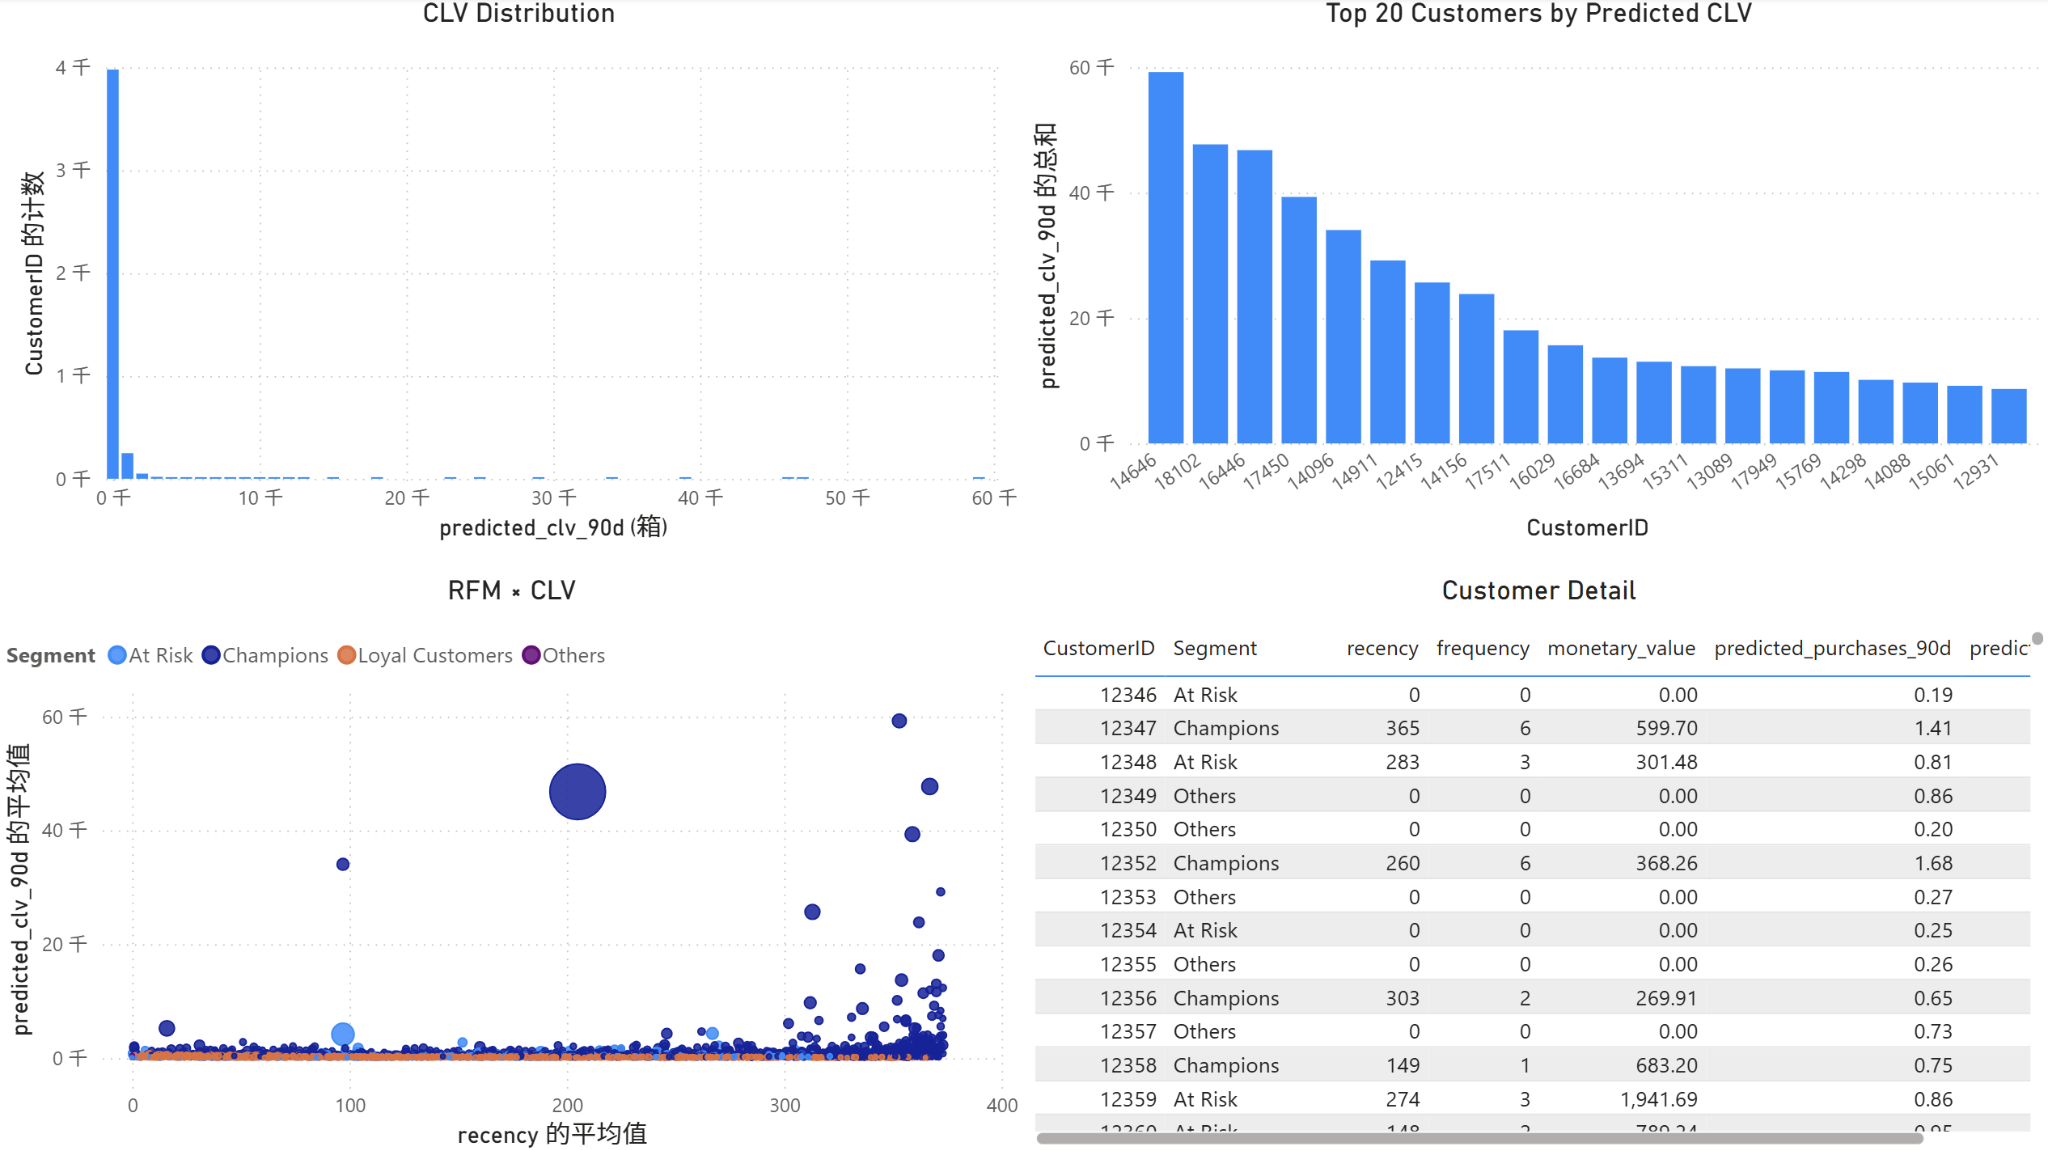

The dashboard page shown, as its layout file describes it:
{"tool":"powerbi","page":{"name":"CLV Analysis","canvas":[1280,720],"ordinal":1},"visuals":[{"type":"clusteredColumnChart","title":"CLV Distribution","fields":{"Y":["CountNonNull(customer_clv.CustomerID)"],"Category":["customer_clv.predicted_clv_90d (箱)"]},"box":[9.3,0,630.7,343.8],"z":0},{"type":"clusteredColumnChart","title":"Top 20 Customers by Predicted CLV","fields":{"Category":["customer_clv.CustomerID"],"Y":["Sum(customer_clv.predicted_clv_90d)"]},"box":[640,0,640,343.8],"z":1000},{"type":"scatterChart","title":"RFM × CLV","fields":{"X":["customer_clv.recency"],"Y":["customer_clv.predicted_clv_90d"],"Size":["Avg(customer_clv.monetary_value)"],"Series":["customer_clv.Segment"],"Category":["customer_clv.CustomerID"]},"box":[0,359.7,640,362.3],"z":2000},{"type":"tableEx","title":"Customer Detail","fields":{"Values":["customer_clv.CustomerID","customer_clv.Segment","customer_clv.recency","customer_clv.frequency","customer_clv.monetary_value","customer_clv.predicted_purchases_90d","customer_clv.predicted_clv_90d"]},"box":[640,359.7,640,361],"z":3000}]}

Visuals, with their boxes in screenshot pixels (x1, y1, x2, y2), scaled from the page's 1280x720 canvas onto the 2048x1150 screenshot:
"CLV Distribution" clusteredColumnChart: 15 0 1024 549
"Top 20 Customers by Predicted CLV" clusteredColumnChart: 1024 0 2047 549
"RFM × CLV" scatterChart: 0 575 1024 1149
"Customer Detail" tableEx: 1024 575 2047 1149
